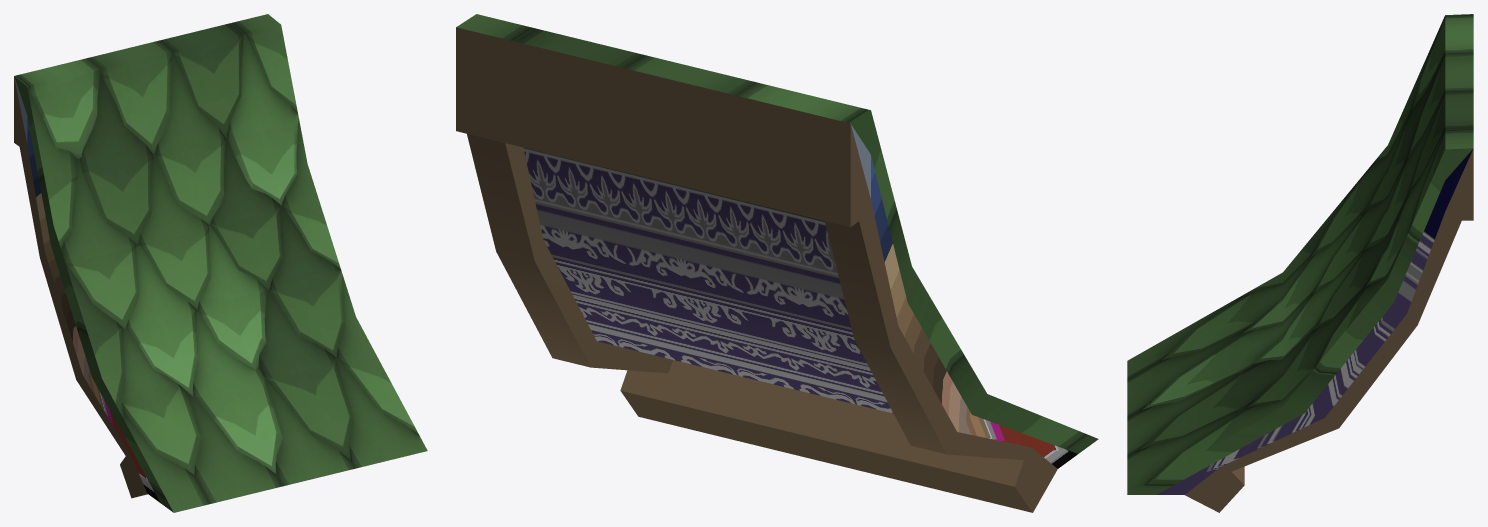
File: elven_SM_Bld_Roof_Concave_Small_Half_01.gltf
3 renders of one model, left to right at view 1: azimuth 30°, elevation 25°; view 2: azimuth 150°, elevation 25°; view 3: azimuth 270°, elevation 25°, orthographic. The views are drawn at different scales.
Visible parts, largest first — view 1: SM_Bld_Roof_Concave_Small_Half_01; view 2: SM_Bld_Roof_Concave_Small_Half_01; view 3: SM_Bld_Roof_Concave_Small_Half_01.
Boxes of the visible parts, x1,y1,x2,y2 form: SM_Bld_Roof_Concave_Small_Half_01: (14,14,427,512); SM_Bld_Roof_Concave_Small_Half_01: (456,14,1098,512); SM_Bld_Roof_Concave_Small_Half_01: (1127,14,1473,512).
Bounding box in the file's own units: 1.25 × 1.58 × 1.36.
3 materials, 3 textured.
